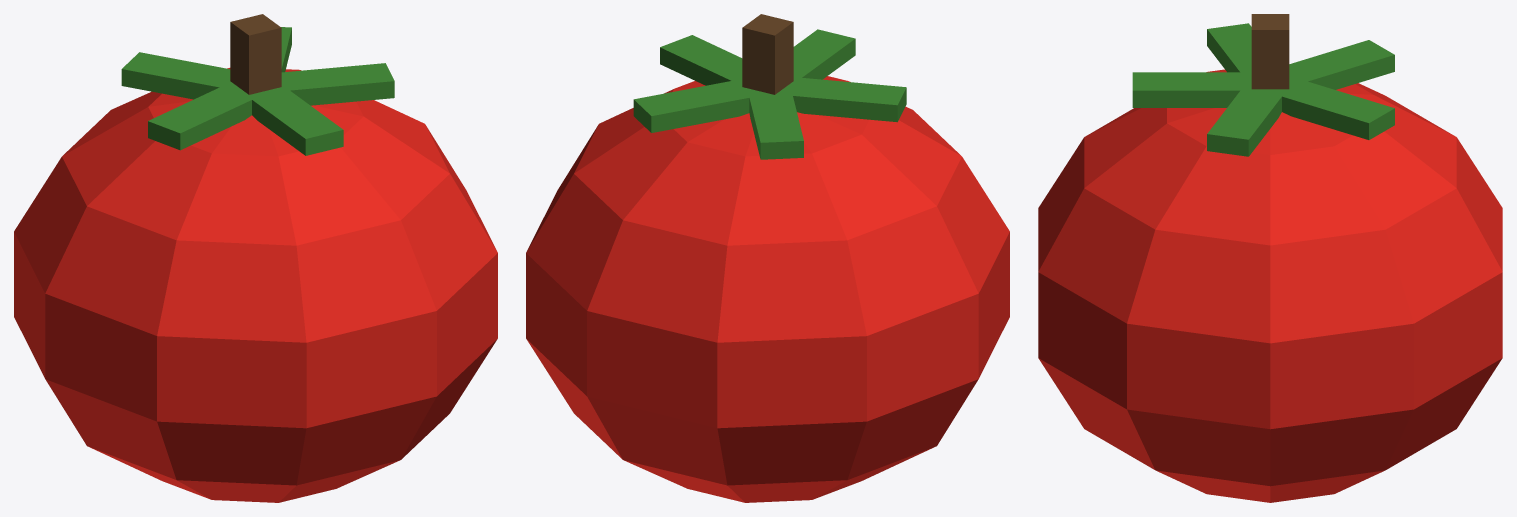
The model's file is tomato_item.obj.
The picture shows the model from 3 angles, left to right: view 1: azimuth 30°, elevation 25°; view 2: azimuth 150°, elevation 25°; view 3: azimuth 270°, elevation 25°; orthographic projection.
Visible parts, largest first — view 1: item; view 2: item; view 3: item.
Boxes of the visible parts, x1,y1,x2,y2 form: item: (14,14,497,502); item: (526,14,1009,502); item: (1038,14,1502,502).
Bounding box in the file's own units: 0.39 × 0.4 × 0.3708.
